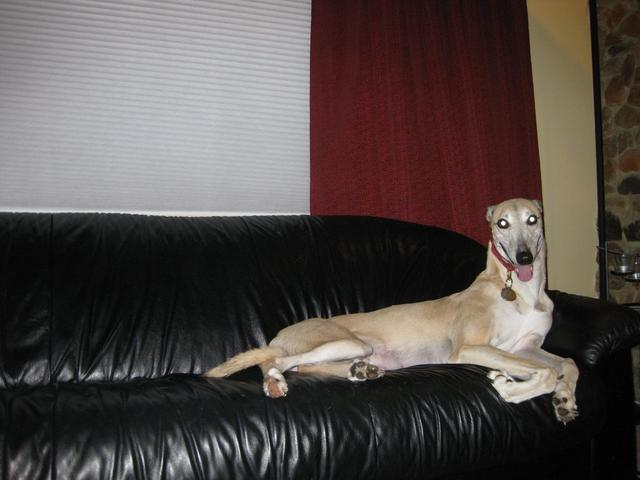dog: (238, 133, 587, 412)
